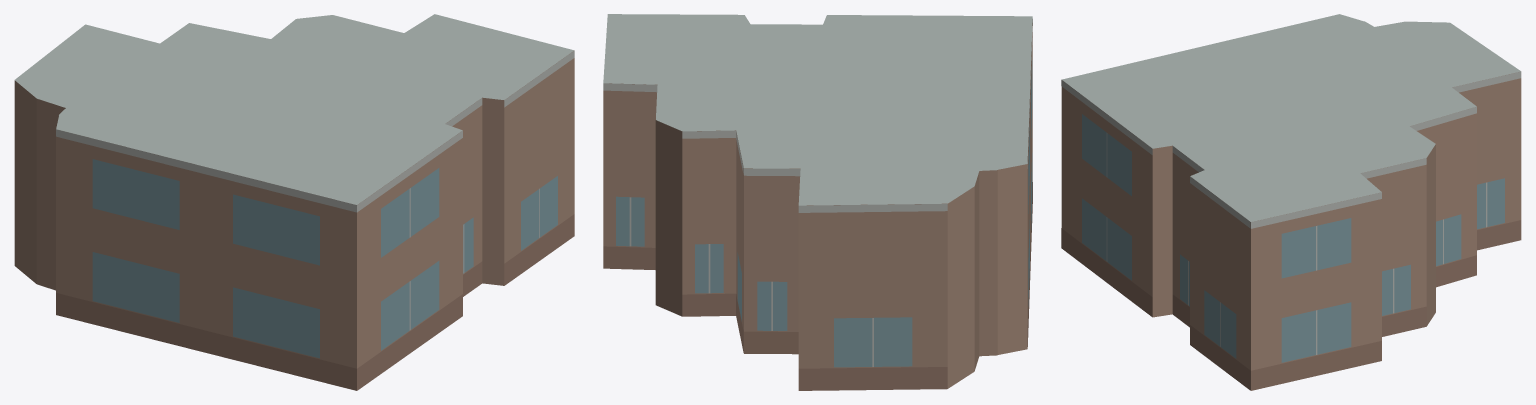
File: survey-upis-33012792.glb
3 views of the same model, side by side, from view 1: azimuth 30°, elevation 25°; view 2: azimuth 150°, elevation 25°; view 3: azimuth 270°, elevation 25° (orthographic). The views are drawn at different scales.
Parts seen in each view (by area): view 1: survey-upis-33012792.tmp; view 2: survey-upis-33012792.tmp; view 3: survey-upis-33012792.tmp.
Boxes of the visible parts, x1,y1,x2,y2 form: survey-upis-33012792.tmp: [14, 14, 574, 390]; survey-upis-33012792.tmp: [603, 14, 1032, 390]; survey-upis-33012792.tmp: [1061, 14, 1521, 390].
Size of the model in its own units: 16.15 by 6.1 by 15.08.
